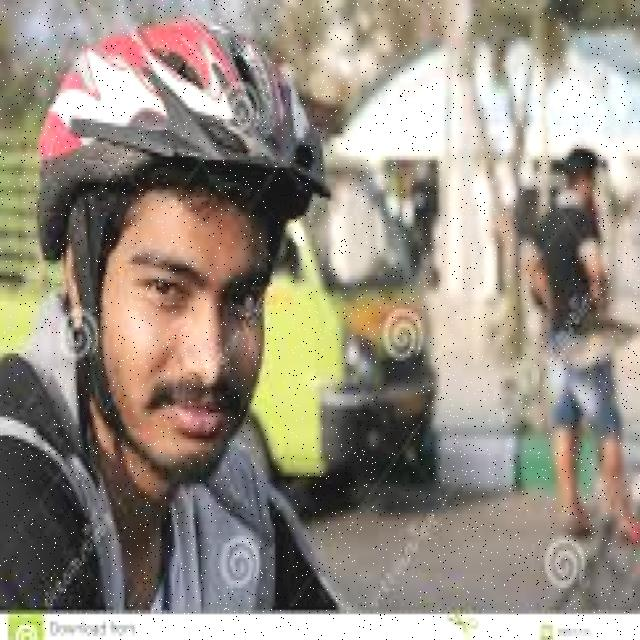with-helmet: (32, 11, 333, 488)
